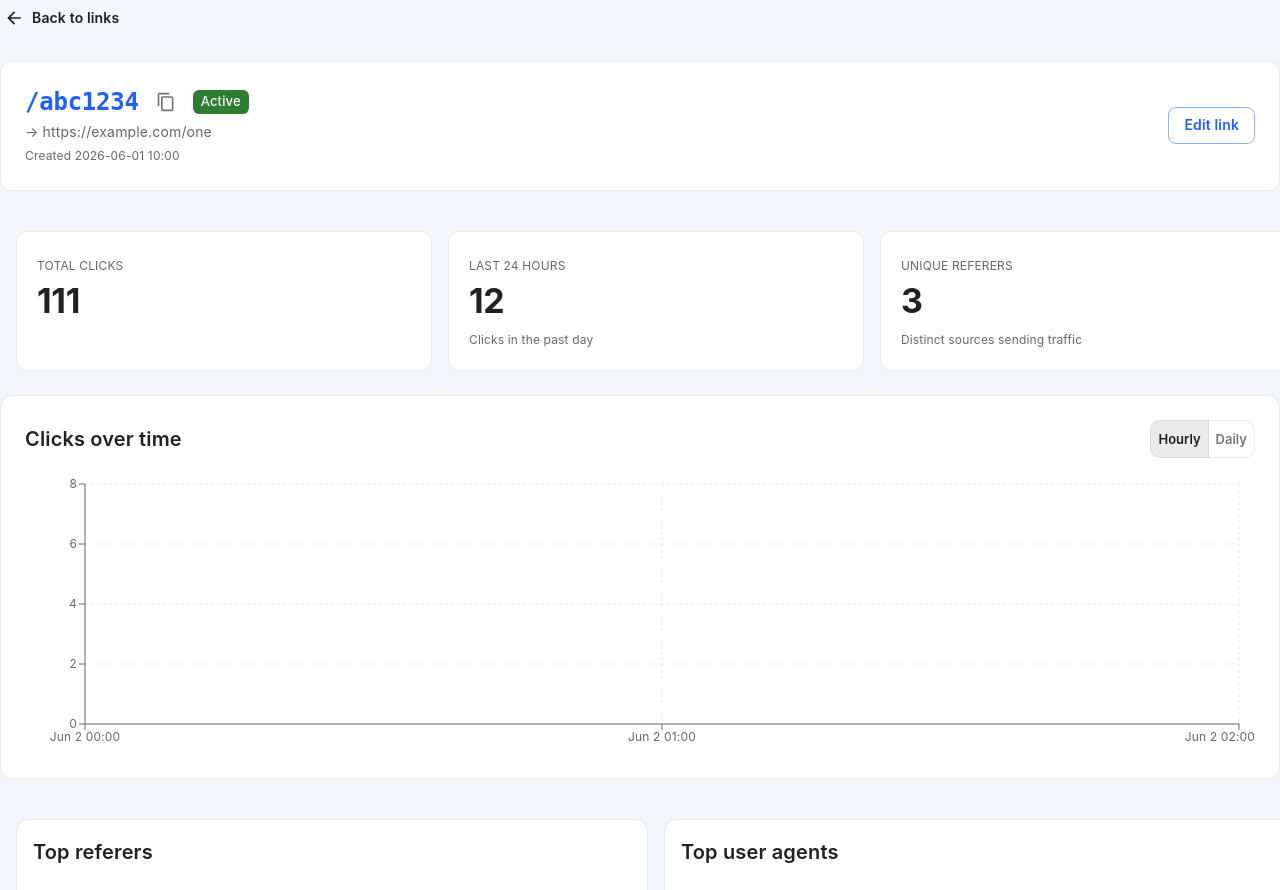
<AnalyticsPage> › refetches when the bucket toggle is flipped from Hourly to Daily
Expected: the heading "111" is shown, [37,280,80,320]
What coordinates should you click on to do the following:
click the button "Daily"
I would click on:
 (1231, 439)
Its box is [1208,420,1255,458].
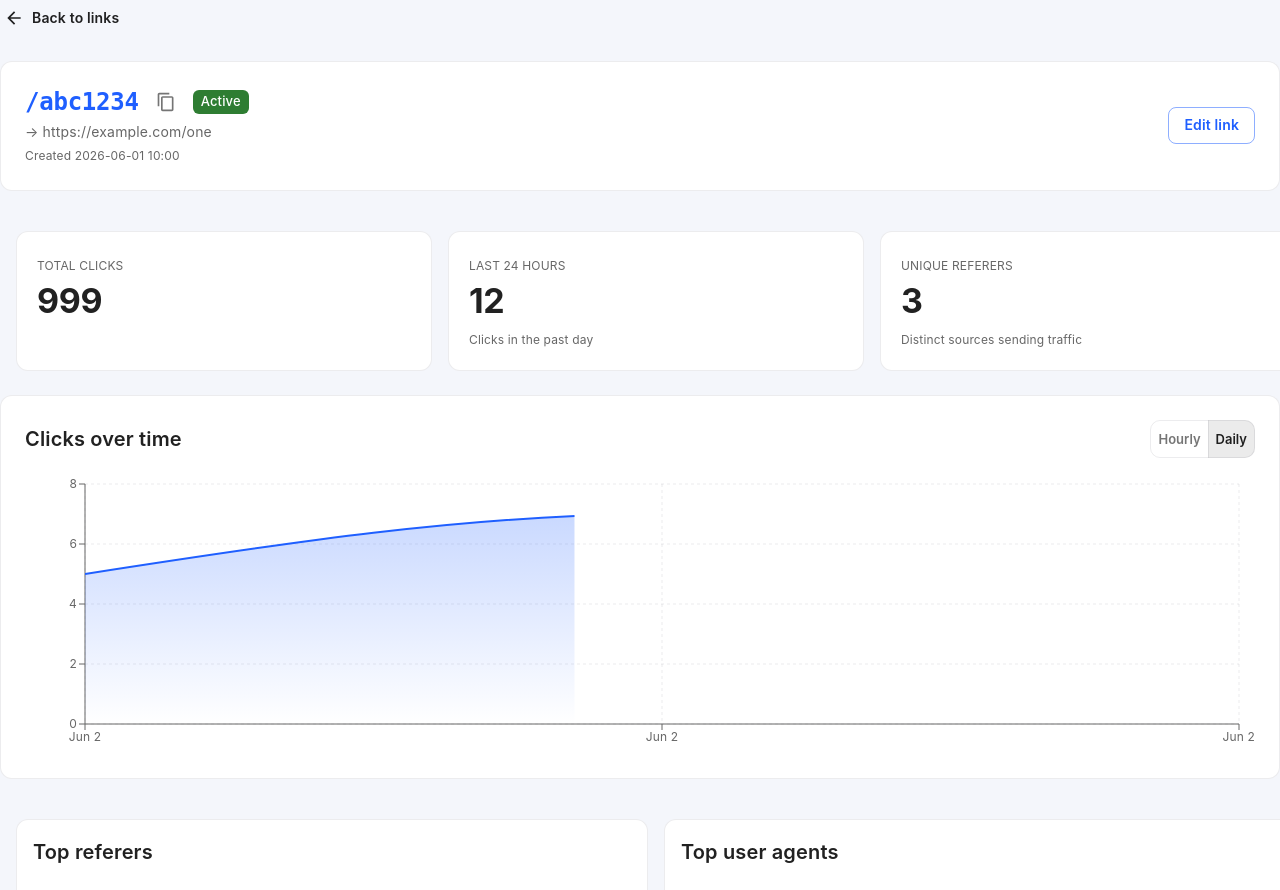
Now the heading "999" is shown, box [37,280,102,320]
